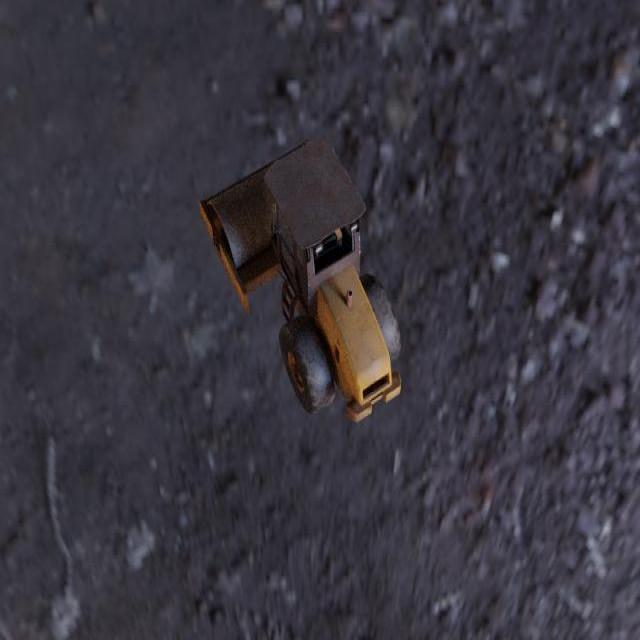Roller: (198, 138, 401, 422)
